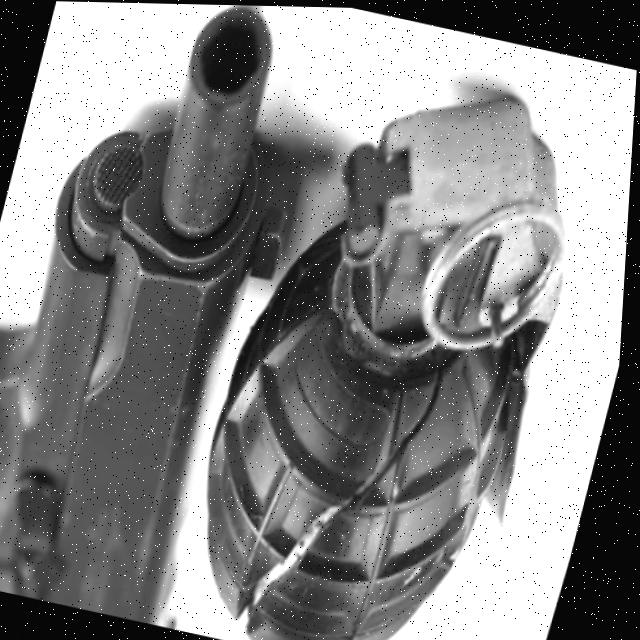grenade: (151, 38, 627, 640)
